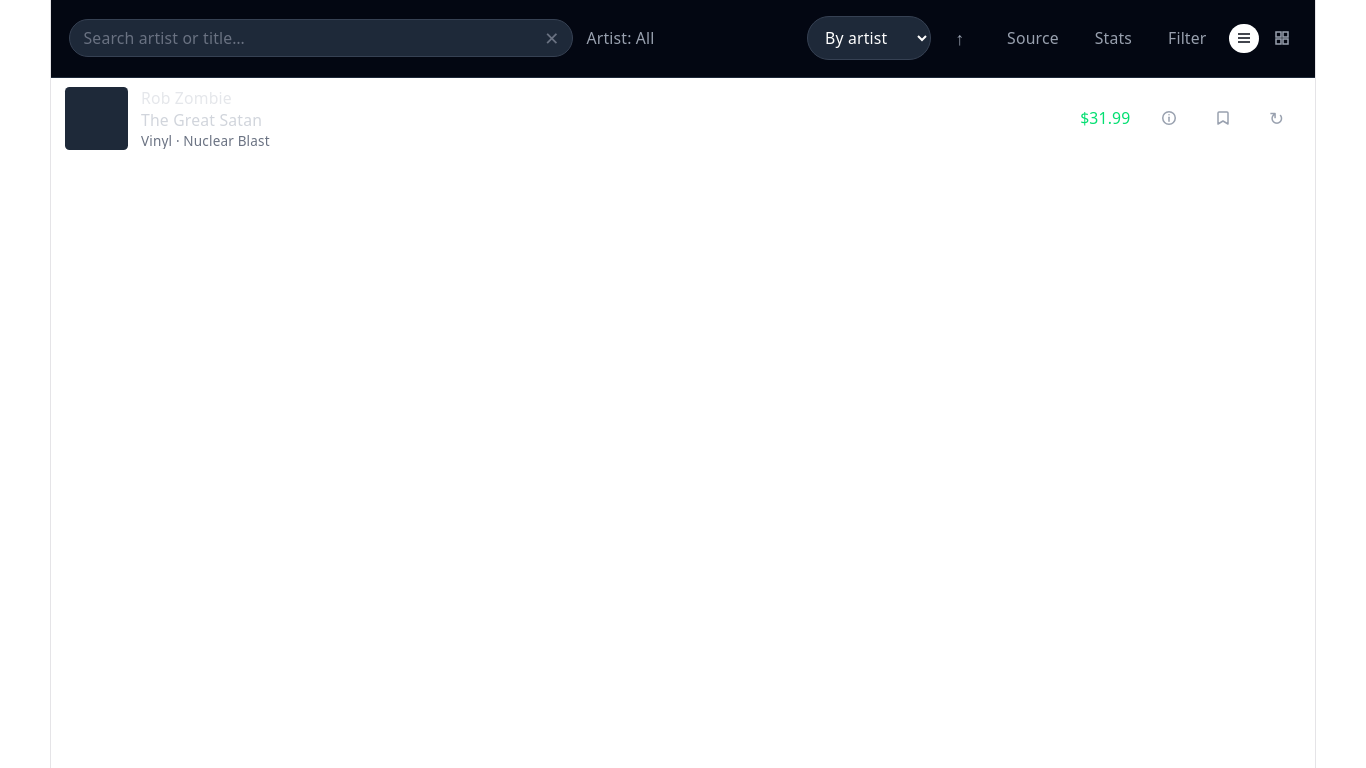
Test case: mobile StockBrowser › keeps the reason out of the card body, where it carried no verdict
Expected: the text "The Great Satan" is shown, x1=141 y1=109 x2=262 y2=131
Expected: the text "Shares a label and era with three records you own." is not shown
Click the button named "Recommendation details".
click(1169, 118)  # box x1=1144 y1=93 x2=1194 y2=143
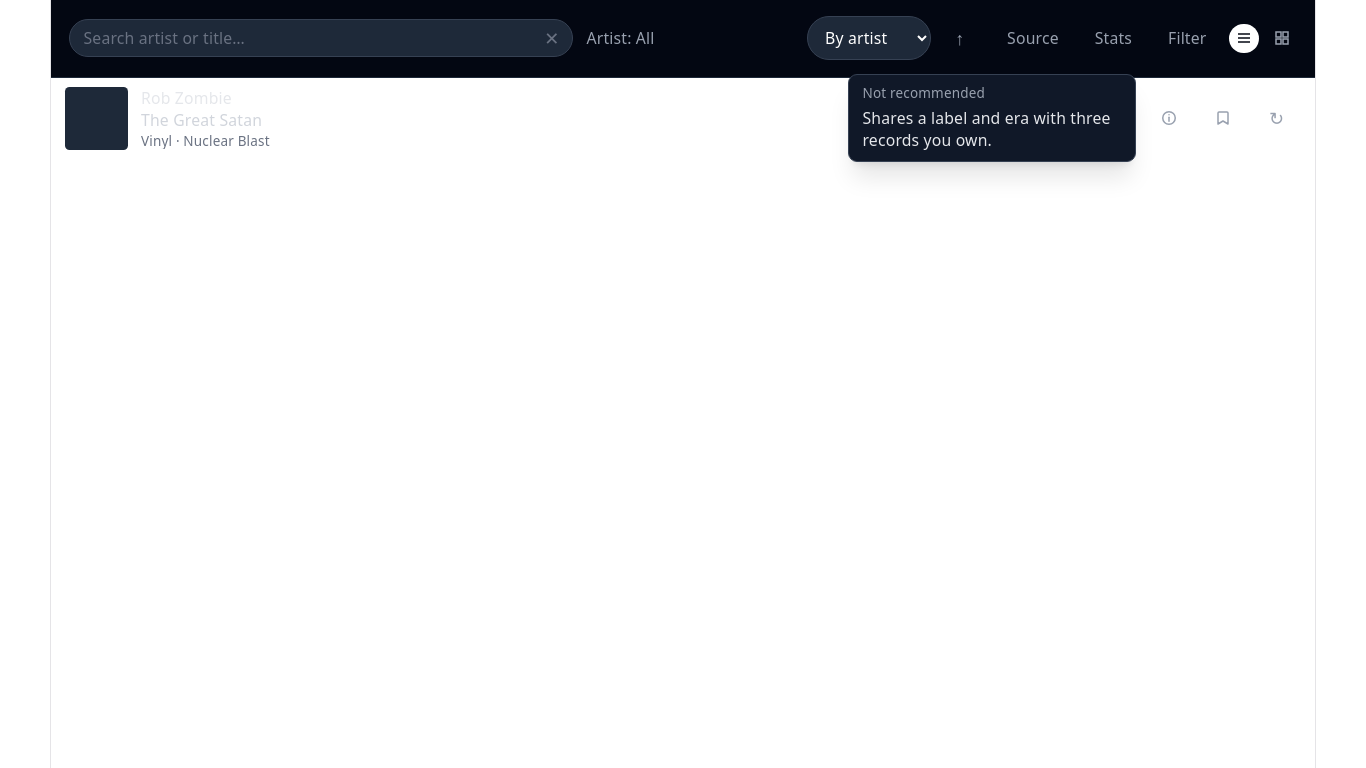
Expected: the element that starts with "Not recommended" is shown, x1=862 y1=84 x2=985 y2=102
Expected: the element that starts with "Not recommended" shows "Shares a label and era with three records you own.", x1=862 y1=107 x2=1111 y2=151
